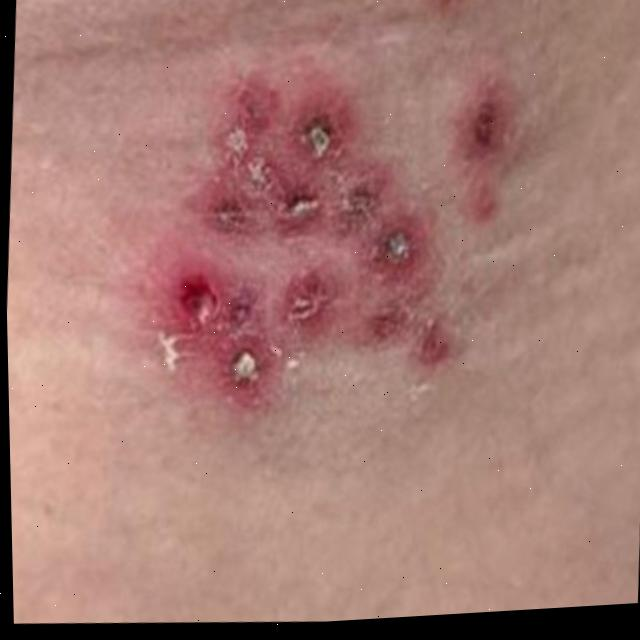Shingles: (158, 90, 436, 393), (457, 82, 532, 176)
